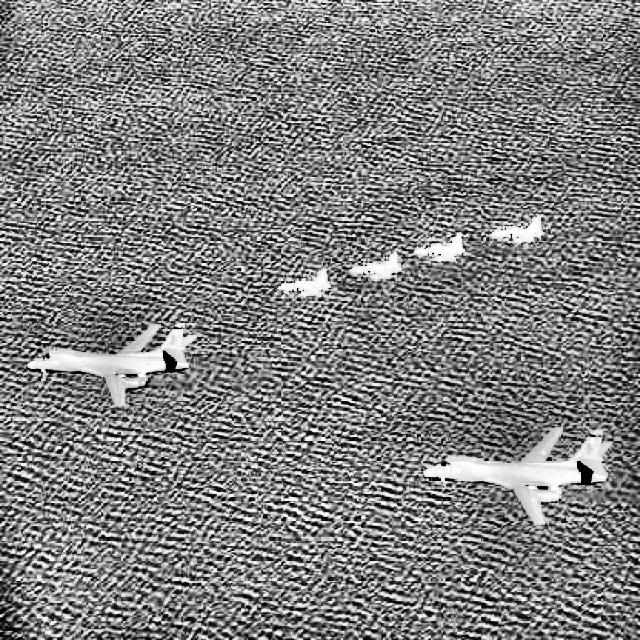B1: (422, 426, 613, 525), (26, 322, 197, 406)
JAS39: (278, 268, 331, 298), (490, 216, 544, 244), (350, 252, 401, 280), (414, 235, 464, 262)
